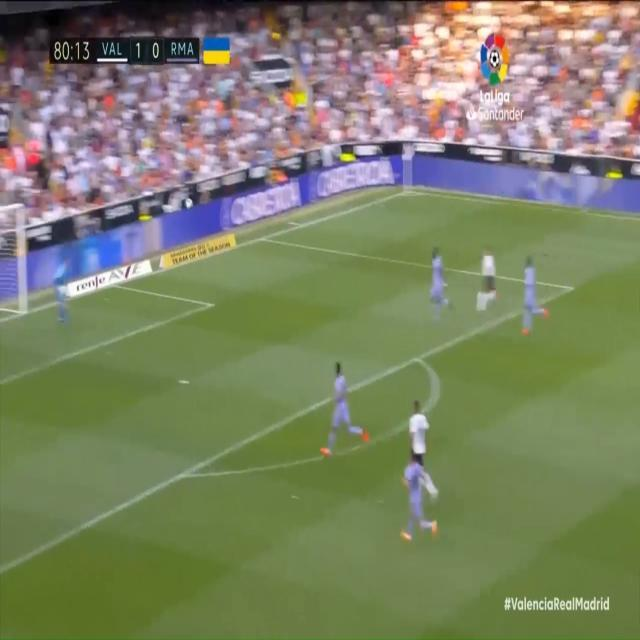goalkeeper: (53, 257, 72, 326)
player: (321, 353, 368, 465), (401, 443, 439, 544), (521, 254, 551, 339), (409, 396, 434, 478), (428, 245, 456, 316), (476, 245, 497, 315)
